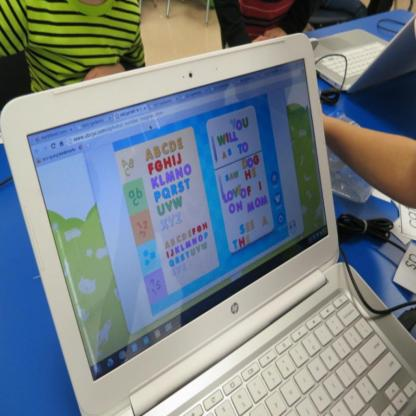board: (1, 40, 416, 416)
